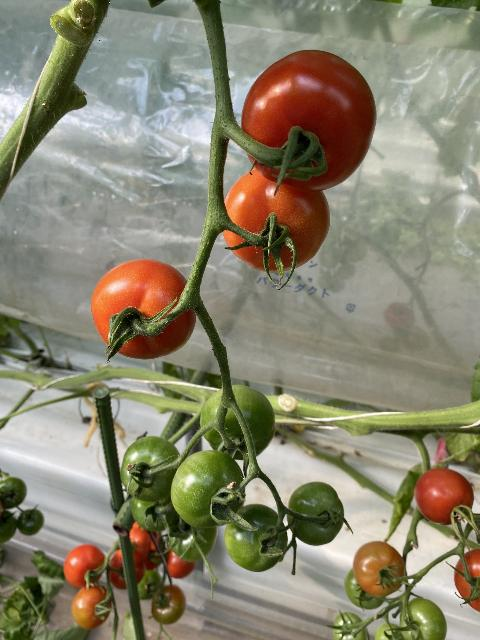l_fully_ripened: (241, 50, 377, 192), (220, 168, 330, 274), (91, 257, 196, 360), (414, 468, 474, 525), (63, 544, 105, 587), (453, 547, 480, 611), (108, 553, 146, 590), (117, 528, 151, 565), (164, 547, 198, 579)
l_green: (200, 383, 276, 462), (170, 450, 245, 529), (223, 503, 287, 573), (120, 435, 183, 502), (287, 481, 344, 546), (166, 518, 219, 562), (400, 598, 448, 640), (344, 567, 388, 610), (132, 496, 184, 531), (333, 613, 369, 640), (0, 477, 28, 509), (16, 508, 45, 536), (375, 622, 405, 640)
l_half_ripened: (353, 540, 405, 596), (71, 582, 114, 630), (150, 584, 186, 625)
